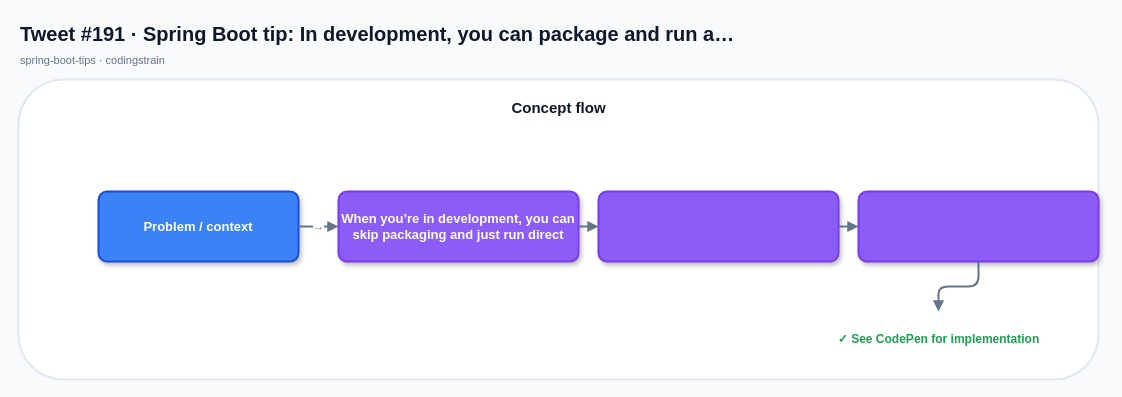
The diagram is 1122 pixels wide and 397 high, and some of its shapes have lost their labels. The centre of each missing label's shape, as x and y in pixels:
./mvnw spring-boot:run: pixel 979 227
If you want, you can combine packaging and run in one command:: pixel 719 227
